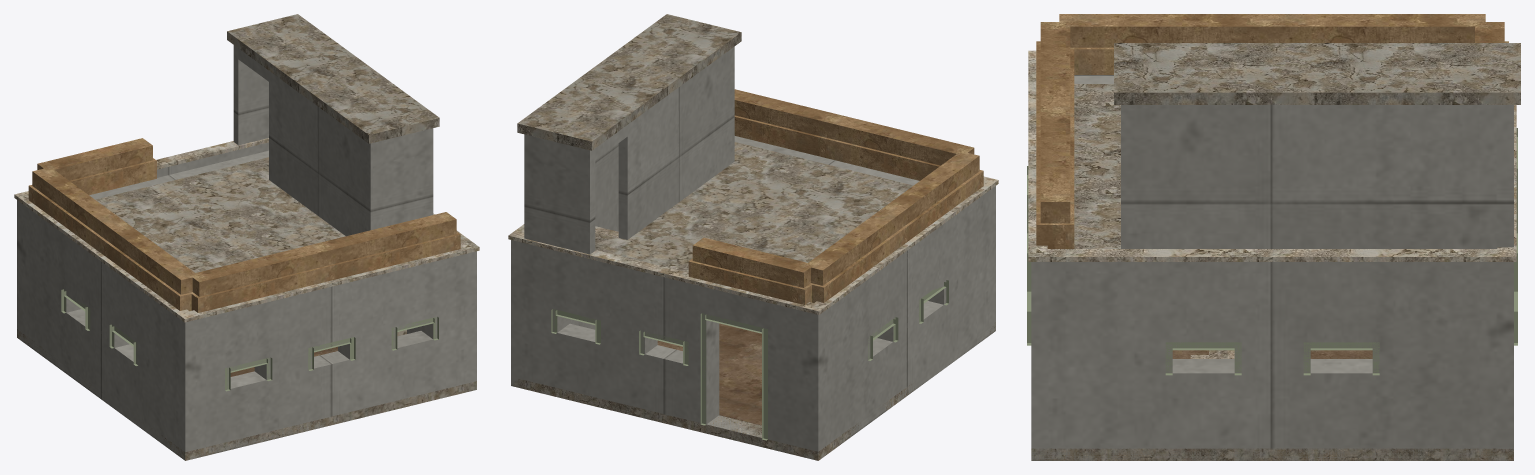
File: mb-pillbox.garrison-v1.lod0.glb
The picture shows the model from 3 angles, left to right: view 1: azimuth 30°, elevation 25°; view 2: azimuth 150°, elevation 25°; view 3: azimuth 270°, elevation 25°; orthographic projection. The views are drawn at different scales.
Parts seen in each view (by area): view 1: mb-pillbox; view 2: mb-pillbox; view 3: mb-pillbox.
Boxes of the visible parts, <box> form: mb-pillbox: <box>14,14,479,460</box>; mb-pillbox: <box>508,14,998,460</box>; mb-pillbox: <box>1027,14,1520,460</box>.
Size of the model in its own units: 7.12 by 5.8 by 7.16.
4 materials, 3 textured.
